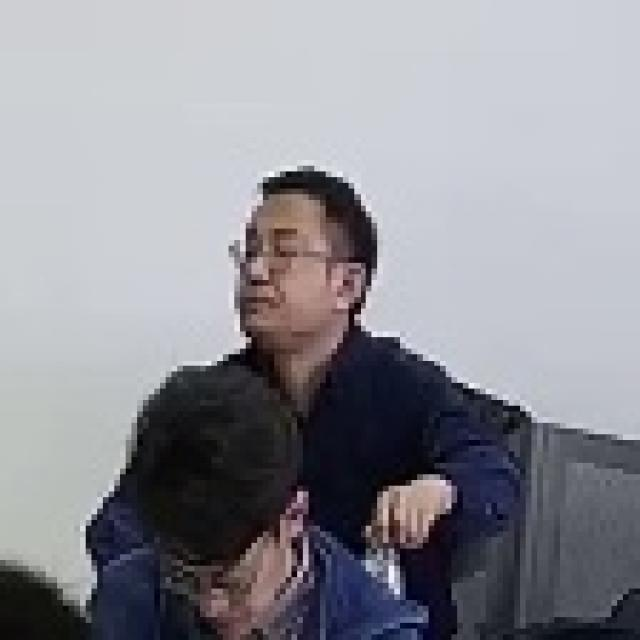drink: (190, 171, 528, 582)
trance: (83, 364, 397, 640)
